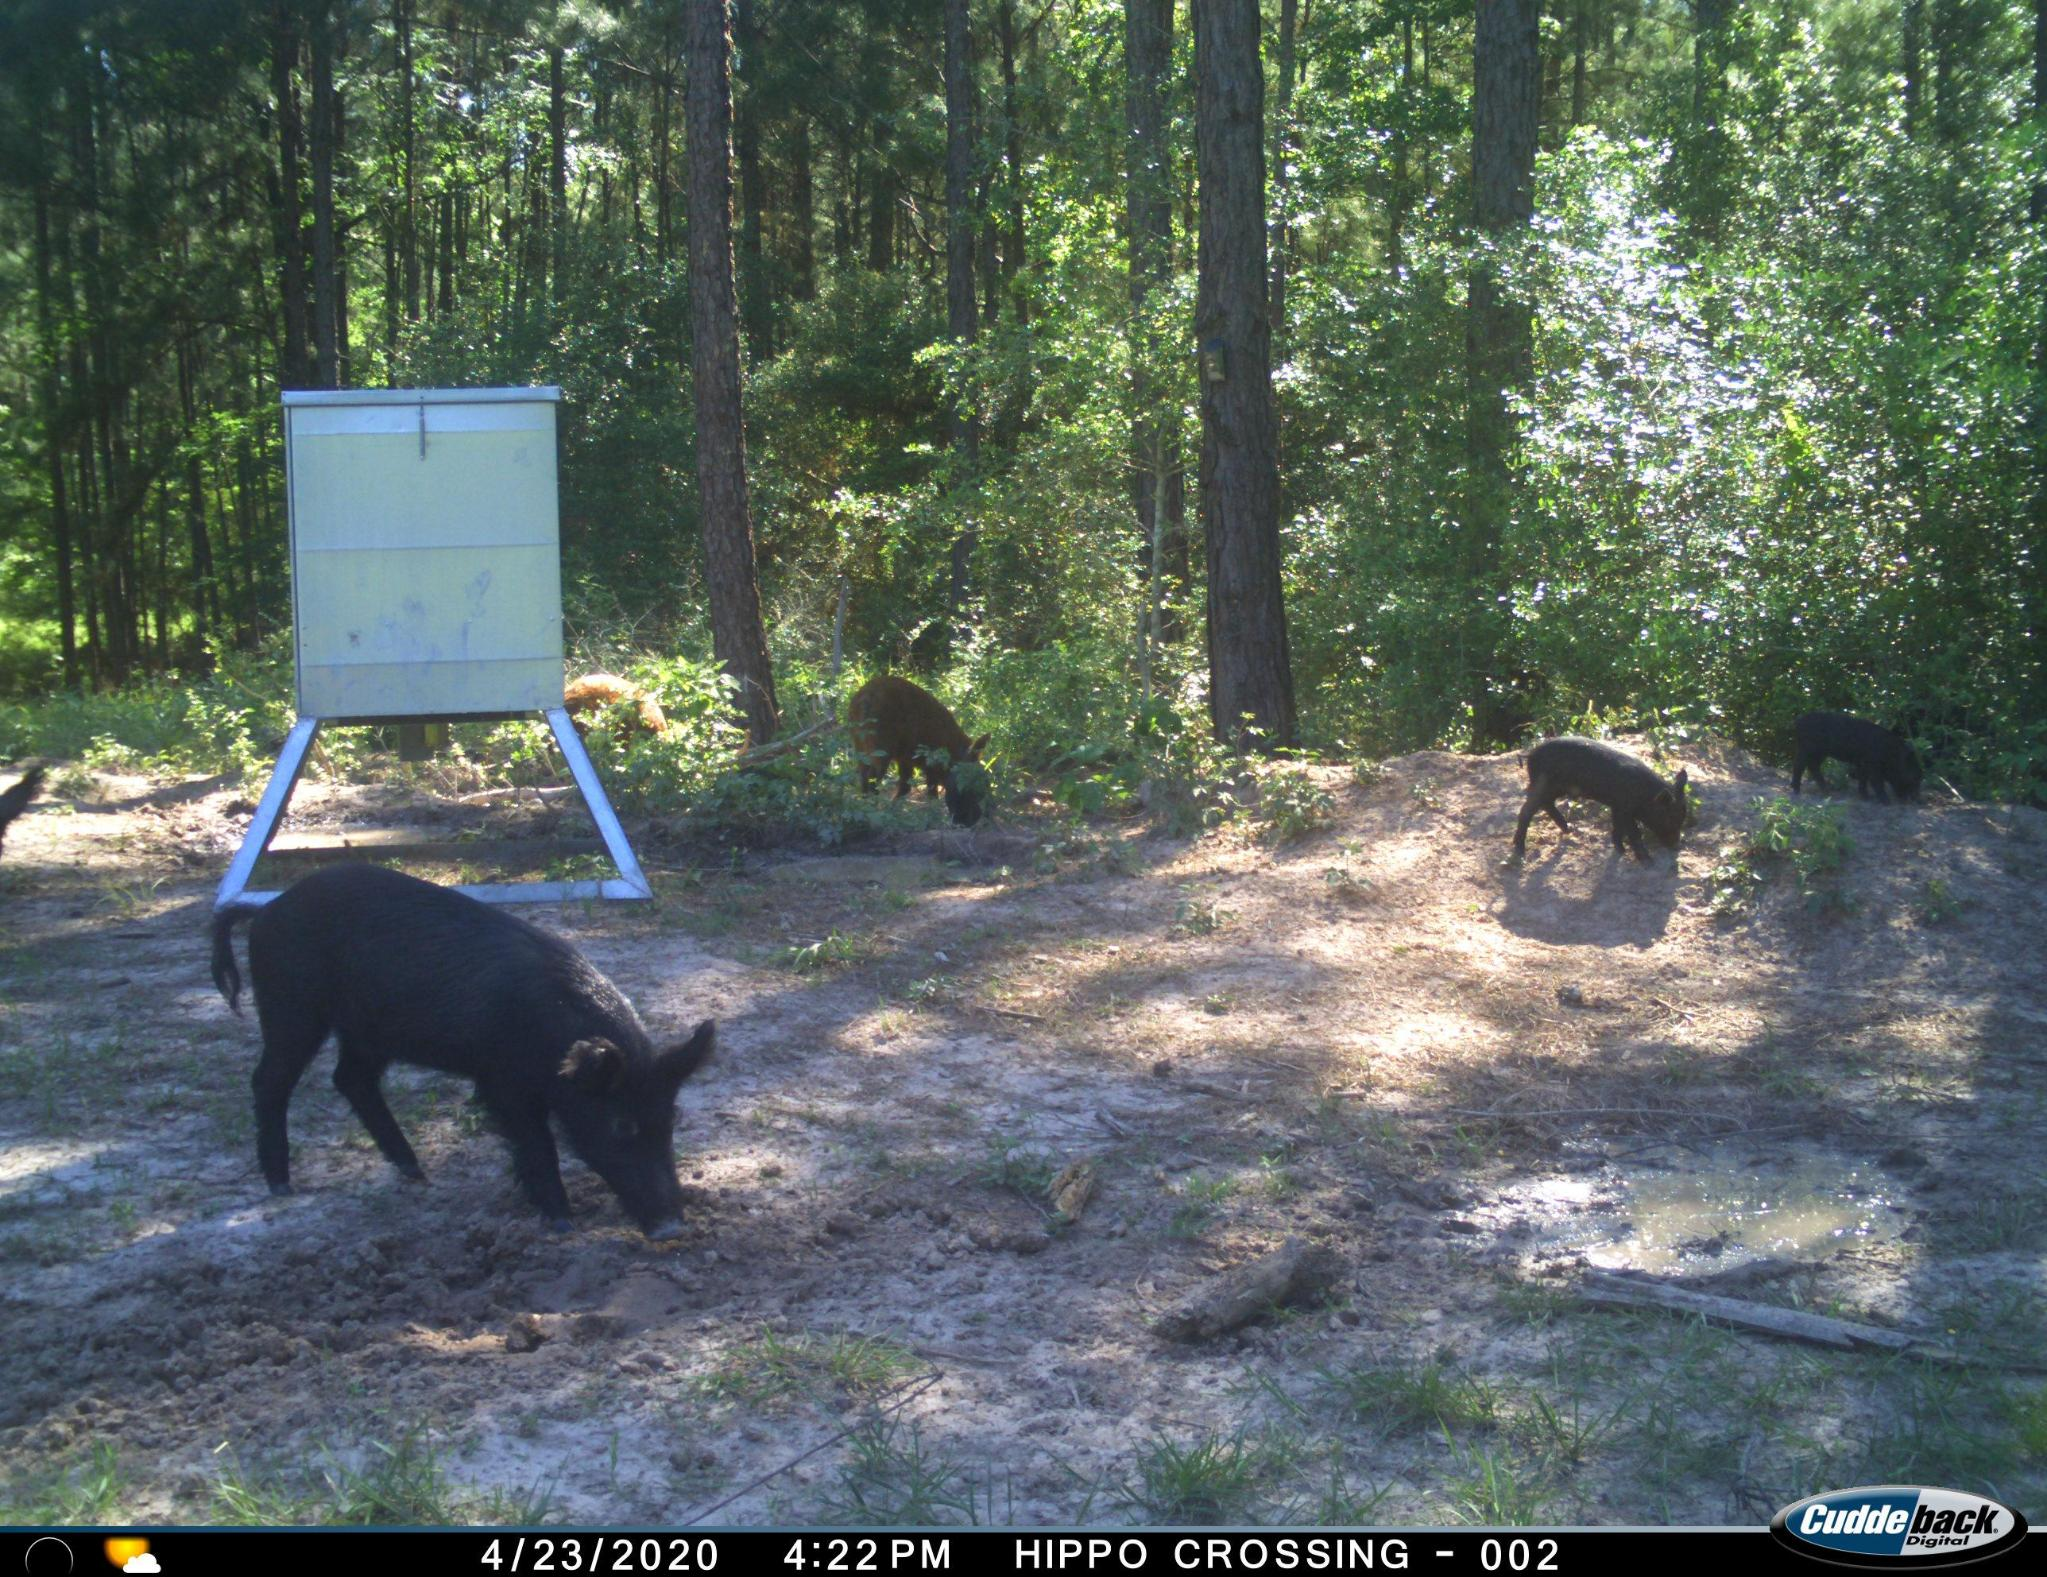Hog: (205, 863, 730, 1274), (1505, 732, 1696, 871), (836, 671, 1002, 822), (1780, 699, 1933, 815), (563, 666, 692, 767)
